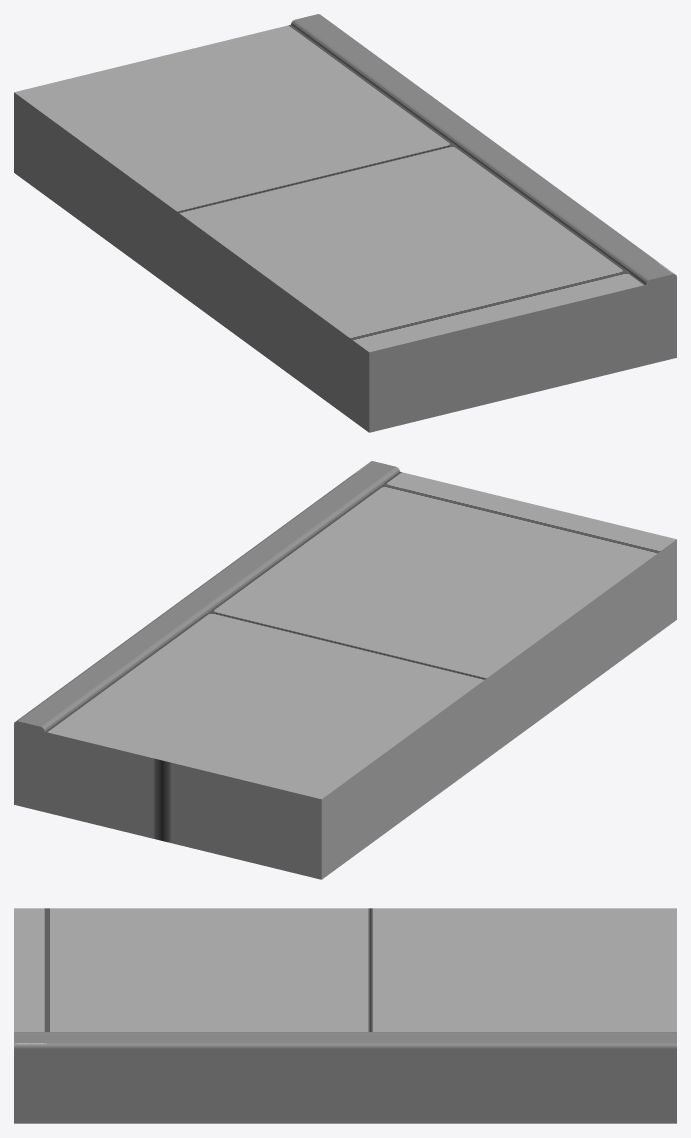
The model's file is calcadapartelonga.fbx.
3 renders of one model, top to bottom at view 1: azimuth 30°, elevation 25°; view 2: azimuth 150°, elevation 25°; view 3: azimuth 270°, elevation 25°, orthographic. The views are drawn at different scales.
Parts seen in each view (by area): view 1: calçada; view 2: calçada; view 3: calçada.
Boxes of the visible parts, <box> form: calçada: <box>14,14,676,432</box>; calçada: <box>14,461,676,879</box>; calçada: <box>14,908,676,1123</box>.
Bounding box in the file's own units: 4 × 8 × 1.05.
Materials: 1 (1 with a texture image).
